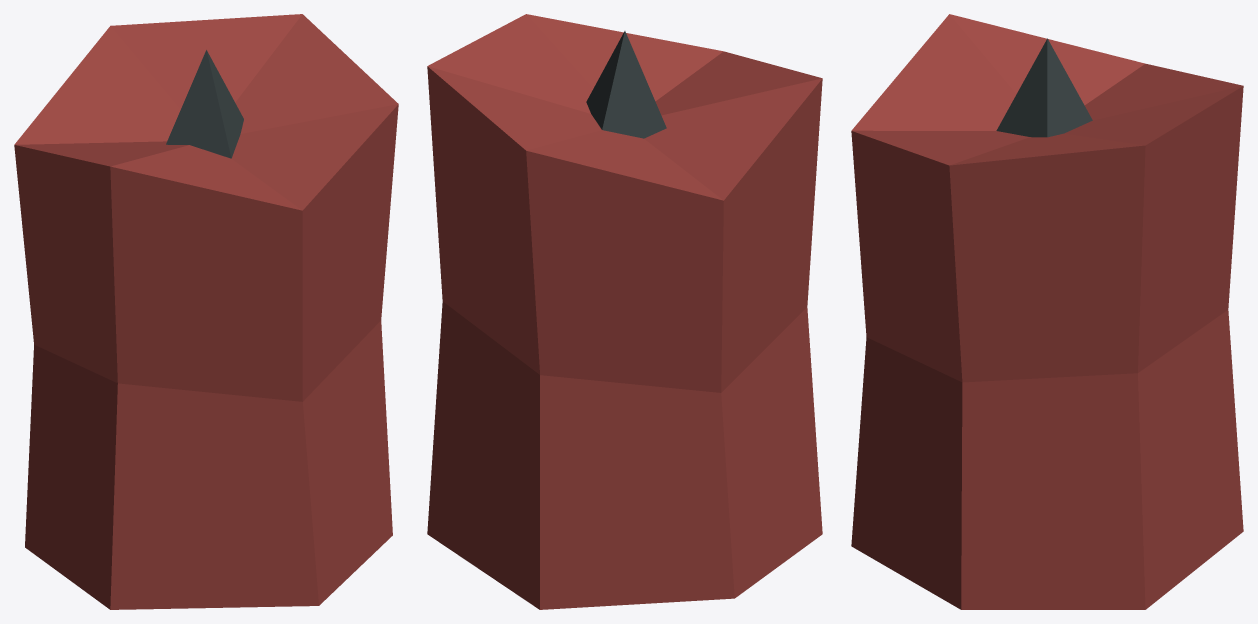
File: Candle_1_Red.fbx
3 views of the same model, side by side, from view 1: azimuth 30°, elevation 25°; view 2: azimuth 150°, elevation 25°; view 3: azimuth 270°, elevation 25° (orthographic). The views are drawn at different scales.
Visible parts, largest first — view 1: Candle_1_Red; view 2: Candle_1_Red; view 3: Candle_1_Red.
Boxes of the visible parts, x1,y1,x2,y2 form: Candle_1_Red: (14, 14, 398, 609); Candle_1_Red: (427, 14, 822, 609); Candle_1_Red: (851, 14, 1243, 609).
Bounding box in the file's own units: 10.39 × 16.87 × 12.
